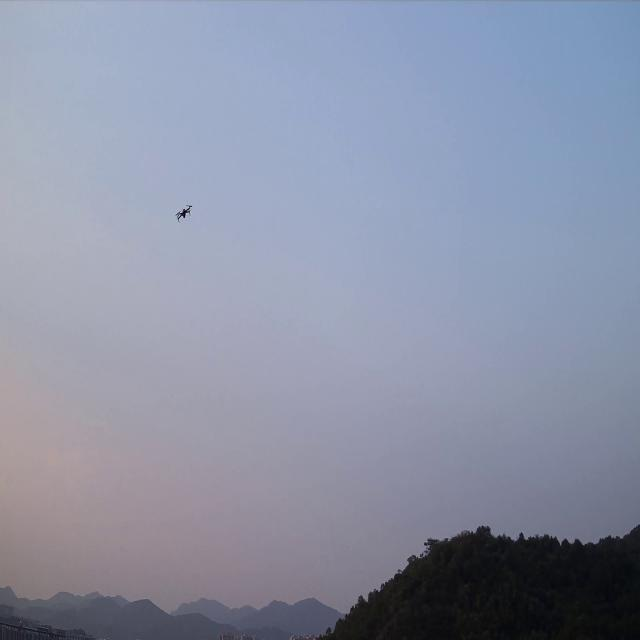UAV: (175, 203, 192, 223)
